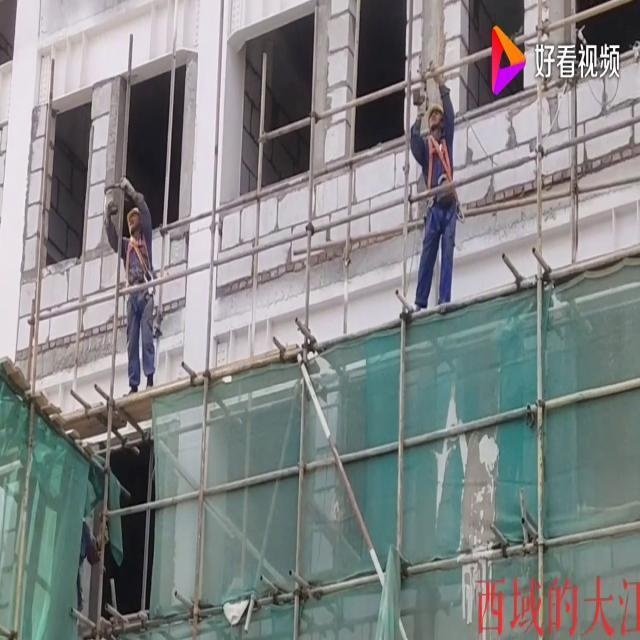Arnes_seguridad: (425, 130, 453, 190), (124, 228, 152, 285)
